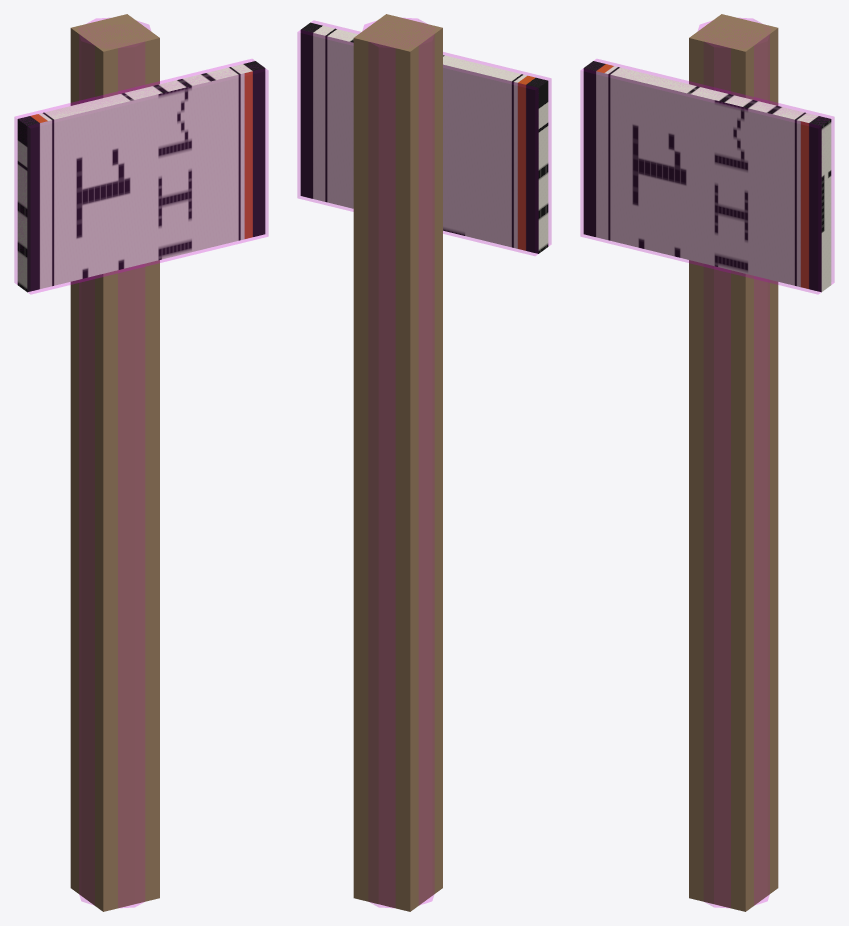
Rendered from milemarker_013.dae.
The picture shows the model from 3 angles, left to right: view 1: azimuth 30°, elevation 25°; view 2: azimuth 150°, elevation 25°; view 3: azimuth 330°, elevation 25°; orthographic projection.
Visible parts, largest first — view 1: post, sign, Colmesh_sign-1, Colmesh_post-1; view 2: post, Colmesh_post-1, sign, Colmesh_sign-1; view 3: post, sign, Colmesh_sign-1, Colmesh_post-1.
Boxes of the visible parts, x1,y1,x2,y2 form: post: (70, 14, 159, 911); sign: (17, 61, 265, 292); Colmesh_sign-1: (14, 59, 268, 294); Colmesh_post-1: (79, 18, 150, 907); post: (353, 14, 442, 911); Colmesh_post-1: (362, 18, 433, 907); sign: (300, 22, 548, 253); Colmesh_sign-1: (297, 20, 551, 255); post: (689, 14, 778, 911); sign: (583, 61, 831, 292); Colmesh_sign-1: (580, 59, 834, 294); Colmesh_post-1: (698, 18, 769, 907).
Bounding box in the file's own units: 0.42 × 0.165 × 1.45.
3 materials, 1 textured.
